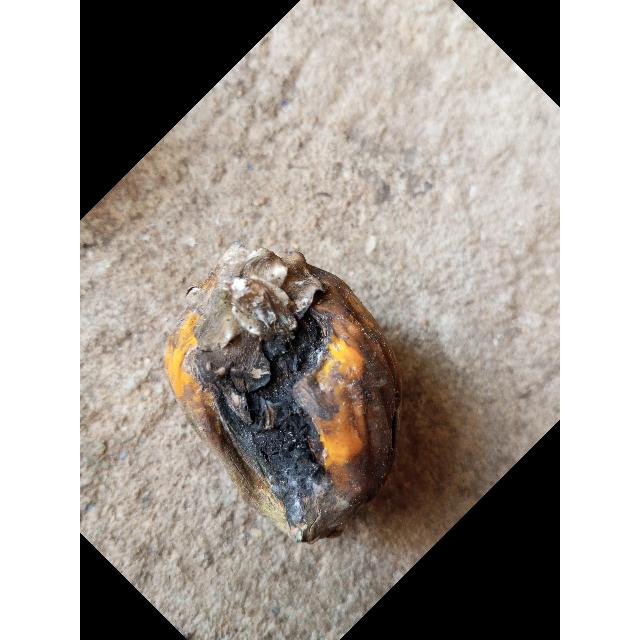damaged: (163, 244, 402, 545)
